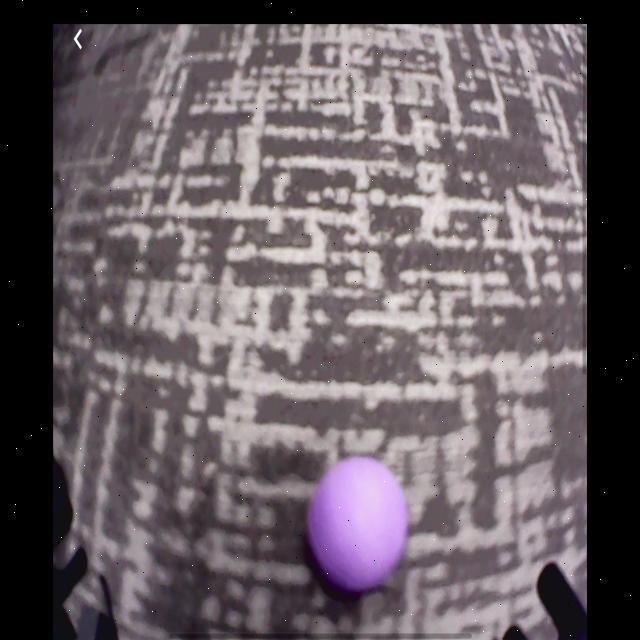ball: (305, 458, 412, 591)
